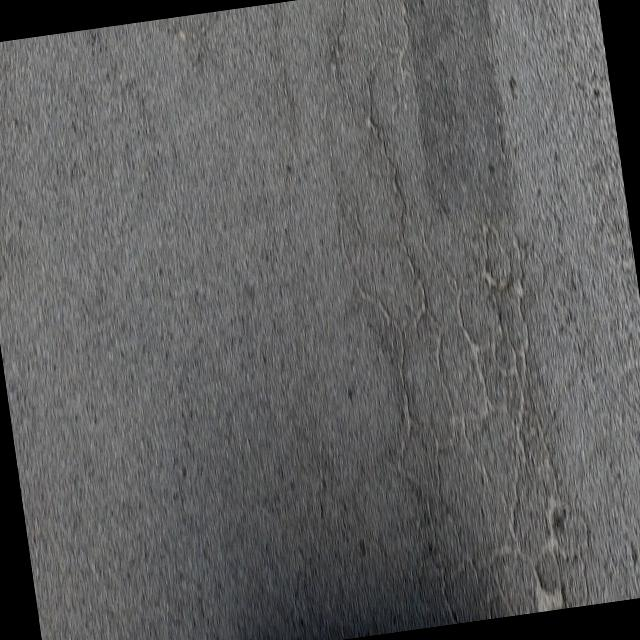Retak-Buaya: (321, 40, 597, 625)
